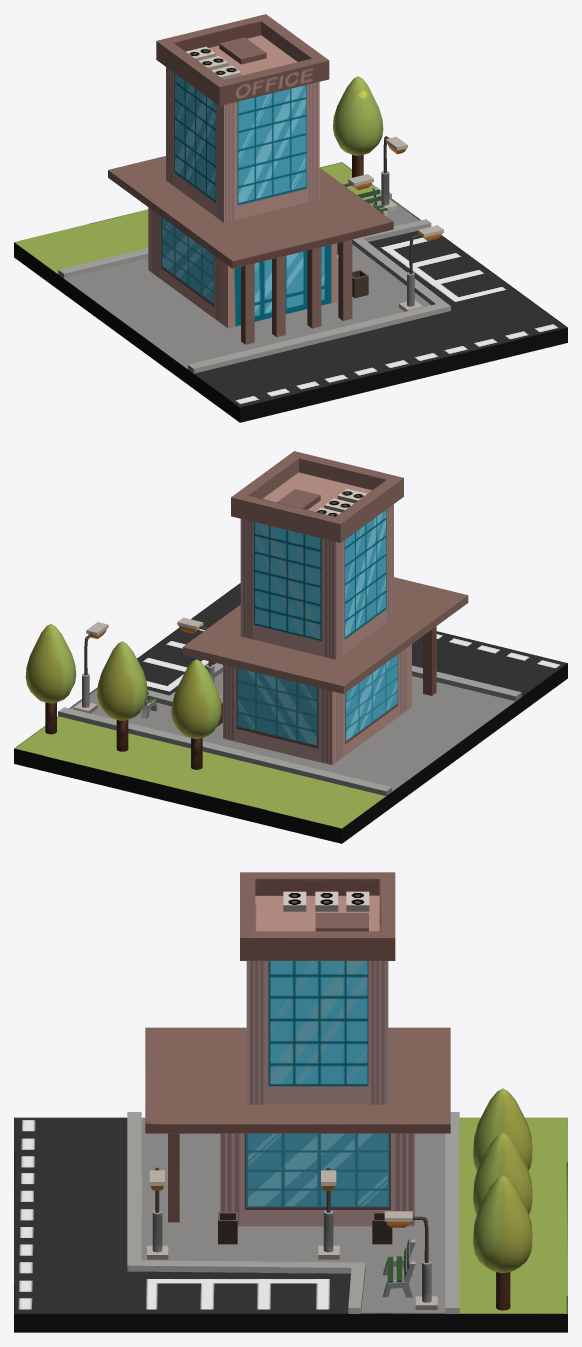
Rendered from Office.fbx.
3 renders of one model, top to bottom at view 1: azimuth 30°, elevation 25°; view 2: azimuth 150°, elevation 25°; view 3: azimuth 270°, elevation 25°, orthographic. The views are drawn at different scales.
Visible parts, largest first — view 1: Office_Building_Asset; view 2: Office_Building_Asset; view 3: Office_Building_Asset.
Boxes of the visible parts, x1,y1,x2,y2 form: Office_Building_Asset: [14, 14, 567, 422]; Office_Building_Asset: [14, 451, 567, 843]; Office_Building_Asset: [14, 872, 567, 1332].
Bounding box in the file's own units: 130 × 91.84 × 150.
